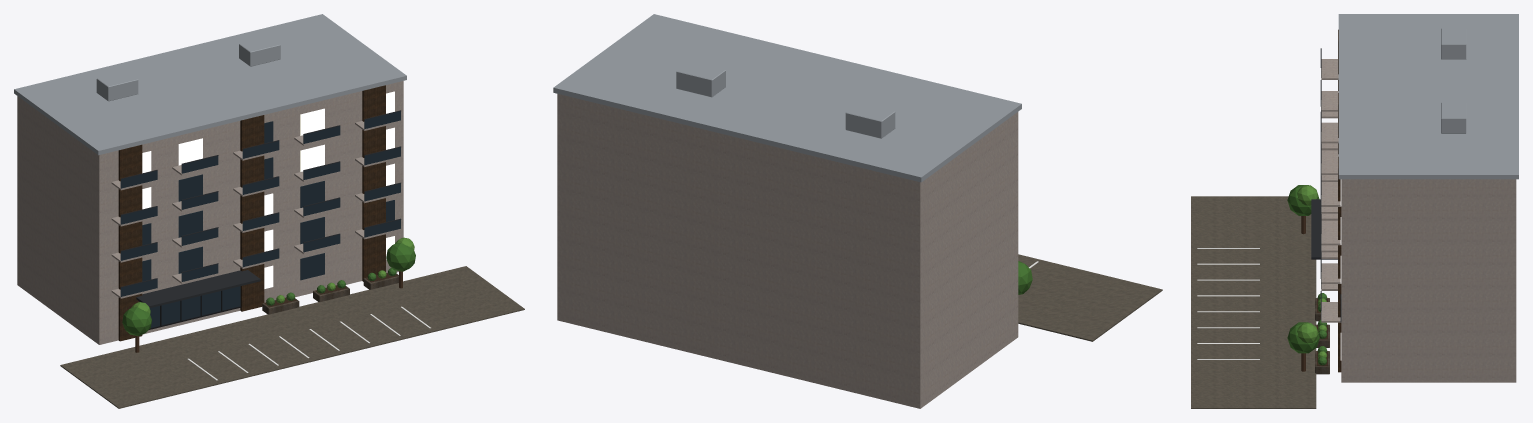
Rendered from OT_Apartments_A.glb.
3 views of the same model, side by side, from view 1: azimuth 30°, elevation 25°; view 2: azimuth 150°, elevation 25°; view 3: azimuth 270°, elevation 25° (orthographic). The views are drawn at different scales.
Visible parts, largest first — view 1: OT_Apartments_A_Stucco, OT_Apartments_A_SteelGrey__9aa0a6, OT_Apartments_A_Pavement, OT_Apartments_A_Glass__22303a, OT_Apartments_A_Wood, OT_Apartments_A_InteriorWarm__ffdca8, OT_Apartments_A_Railing__2a2c30, OT_Apartments_A_Leaf__3f6e2c, OT_Apartments_A_PlanterStone, OT_Apartments_A_PaintWhite__f0f0ee; view 2: OT_Apartments_A_Stucco, OT_Apartments_A_SteelGrey__9aa0a6, OT_Apartments_A_Pavement; view 3: OT_Apartments_A_Stucco, OT_Apartments_A_SteelGrey__9aa0a6, OT_Apartments_A_Pavement, OT_Apartments_A_Railing__2a2c30, OT_Apartments_A_Leaf__3f6e2c, OT_Apartments_A_PaintWhite__f0f0ee, OT_Apartments_A_Wood, OT_Apartments_A_Leaf2__58893a, OT_Apartments_A_PlanterStone, OT_Apartments_A_Shrub__3e6b2f.
Part boxes in pixels (x1=…): OT_Apartments_A_Stucco: x1=17, y1=81, x2=403, y2=344; OT_Apartments_A_SteelGrey__9aa0a6: x1=14, y1=14, x2=406, y2=155; OT_Apartments_A_Pavement: x1=60, y1=266, x2=524, y2=408; OT_Apartments_A_Glass__22303a: x1=120, y1=111, x2=400, y2=327; OT_Apartments_A_Wood: x1=118, y1=85, x2=385, y2=341; OT_Apartments_A_InteriorWarm__ffdca8: x1=142, y1=91, x2=394, y2=288; OT_Apartments_A_Railing__2a2c30: x1=121, y1=110, x2=401, y2=307; OT_Apartments_A_Leaf__3f6e2c: x1=122, y1=243, x2=415, y2=336; OT_Apartments_A_PlanterStone: x1=262, y1=272, x2=398, y2=314; OT_Apartments_A_PaintWhite__f0f0ee: x1=187, y1=306, x2=430, y2=380; OT_Apartments_A_Stucco: x1=557, y1=94, x2=1018, y2=408; OT_Apartments_A_SteelGrey__9aa0a6: x1=553, y1=14, x2=1021, y2=182; OT_Apartments_A_Pavement: x1=1018, y1=254, x2=1162, y2=341; OT_Apartments_A_Stucco: x1=1321, y1=59, x2=1516, y2=382; OT_Apartments_A_SteelGrey__9aa0a6: x1=1338, y1=14, x2=1518, y2=179; OT_Apartments_A_Pavement: x1=1191, y1=196, x2=1316, y2=408; OT_Apartments_A_Railing__2a2c30: x1=1311, y1=48, x2=1337, y2=310; OT_Apartments_A_Leaf__3f6e2c: x1=1287, y1=185, x2=1319, y2=353; OT_Apartments_A_PaintWhite__f0f0ee: x1=1197, y1=248, x2=1259, y2=359; OT_Apartments_A_Wood: x1=1338, y1=29, x2=1341, y2=372; OT_Apartments_A_Leaf2__58893a: x1=1297, y1=185, x2=1318, y2=343; OT_Apartments_A_PlanterStone: x1=1315, y1=298, x2=1329, y2=374; OT_Apartments_A_Shrub__3e6b2f: x1=1317, y1=293, x2=1327, y2=365.
Bounding box in the file's own units: 40 × 19.8 × 26.2.
16 materials, 4 textured.
